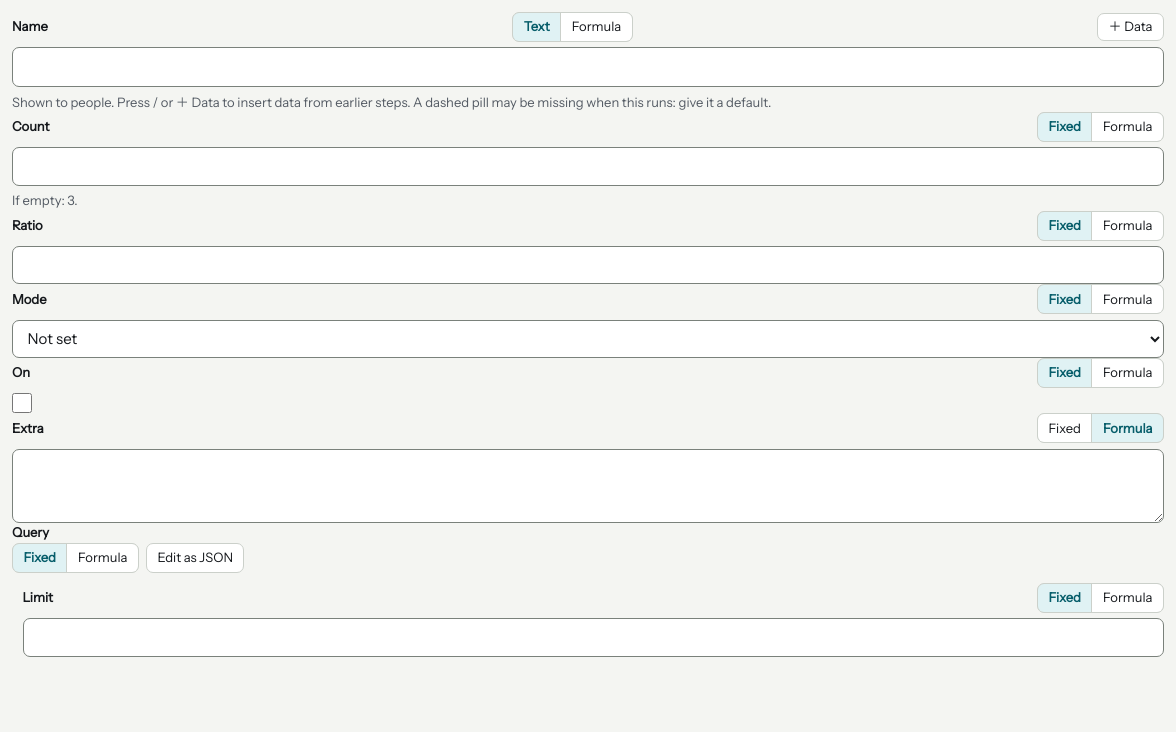
it: holds a number typed in another notation than decimal, never writing it (#73)
Click the field labelled "Count": (588, 167) [12,147,1164,186]
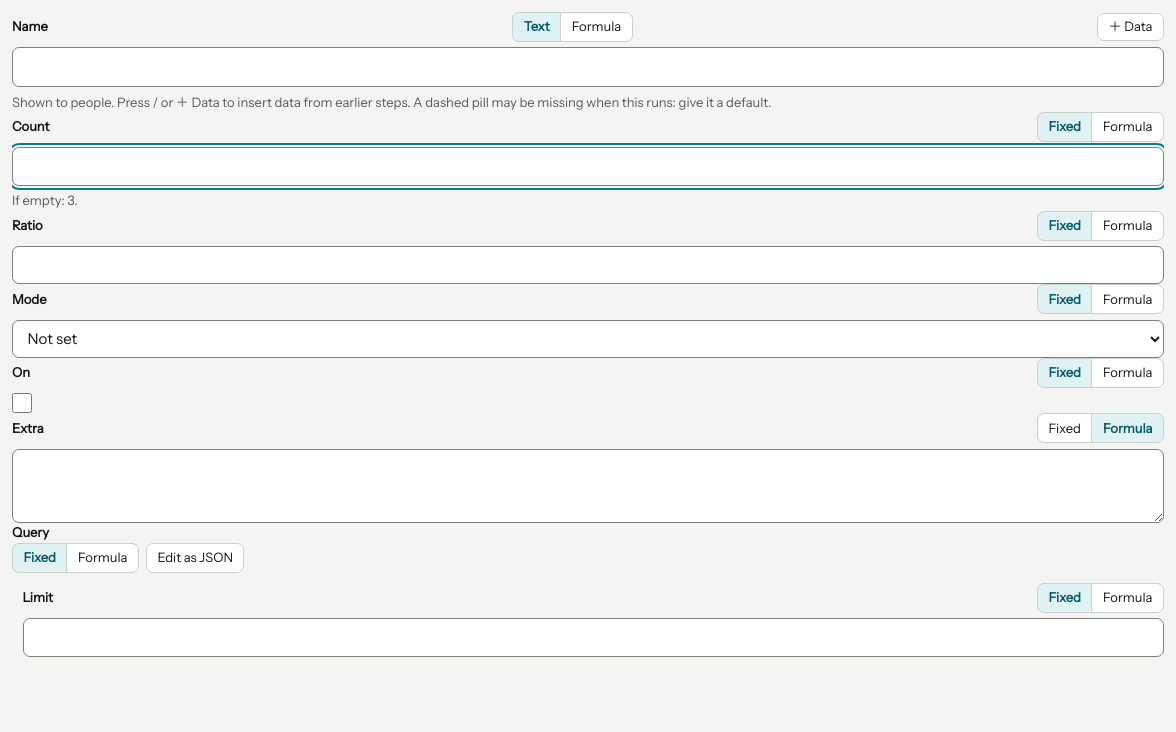
Type keys "0x10"
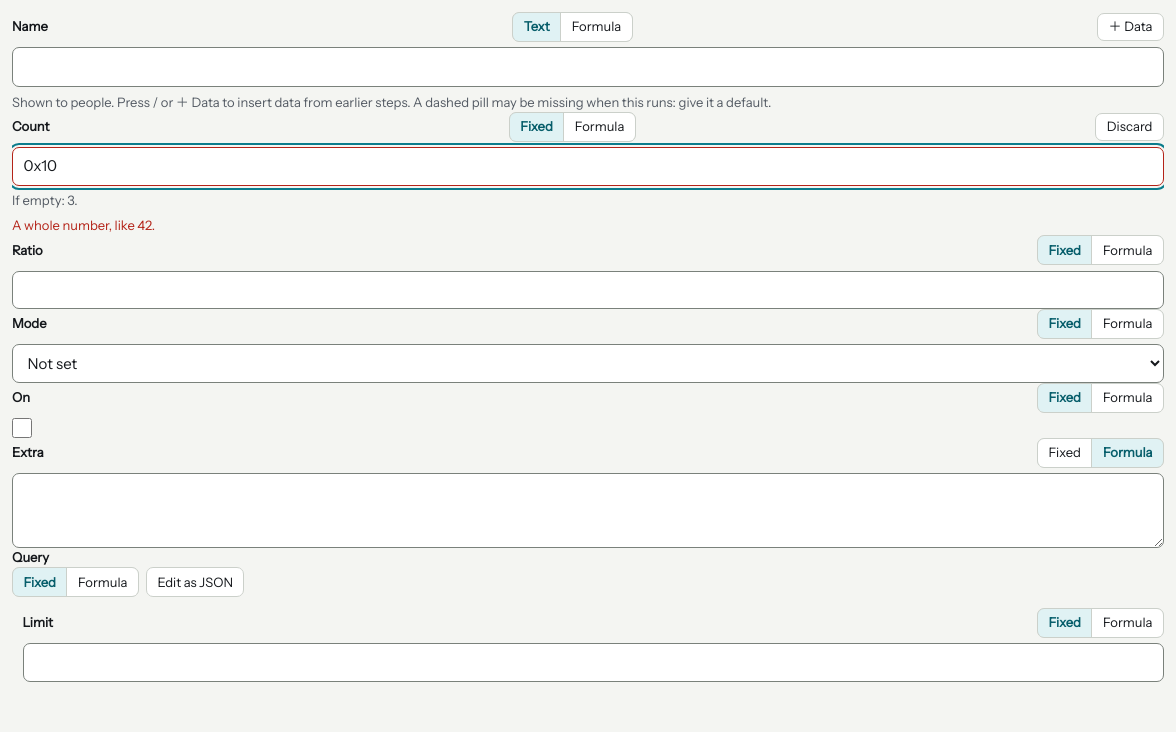
Result: the text "A whole number, like 42." is shown at [12,217,155,233]
